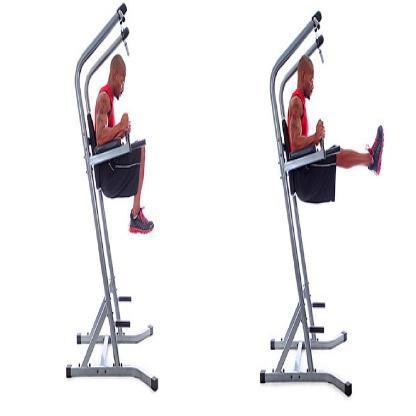chinning dipping: (67, 2, 159, 391)
